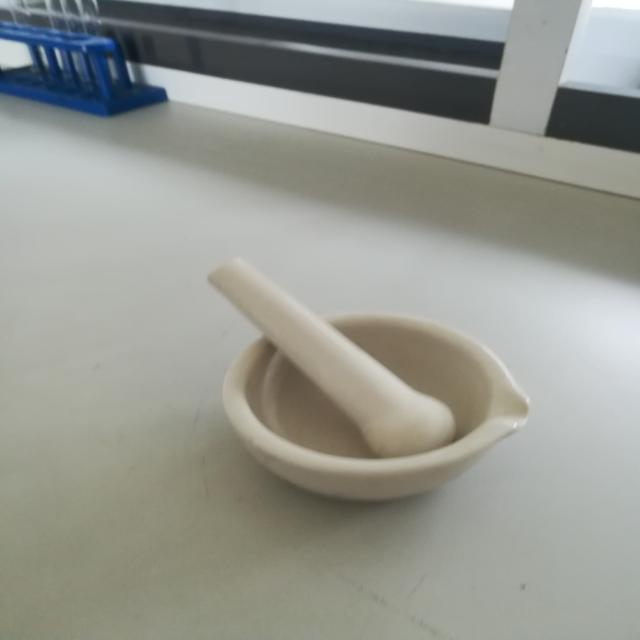Porcelain_Mortar Pestle: (134, 231, 560, 524)
